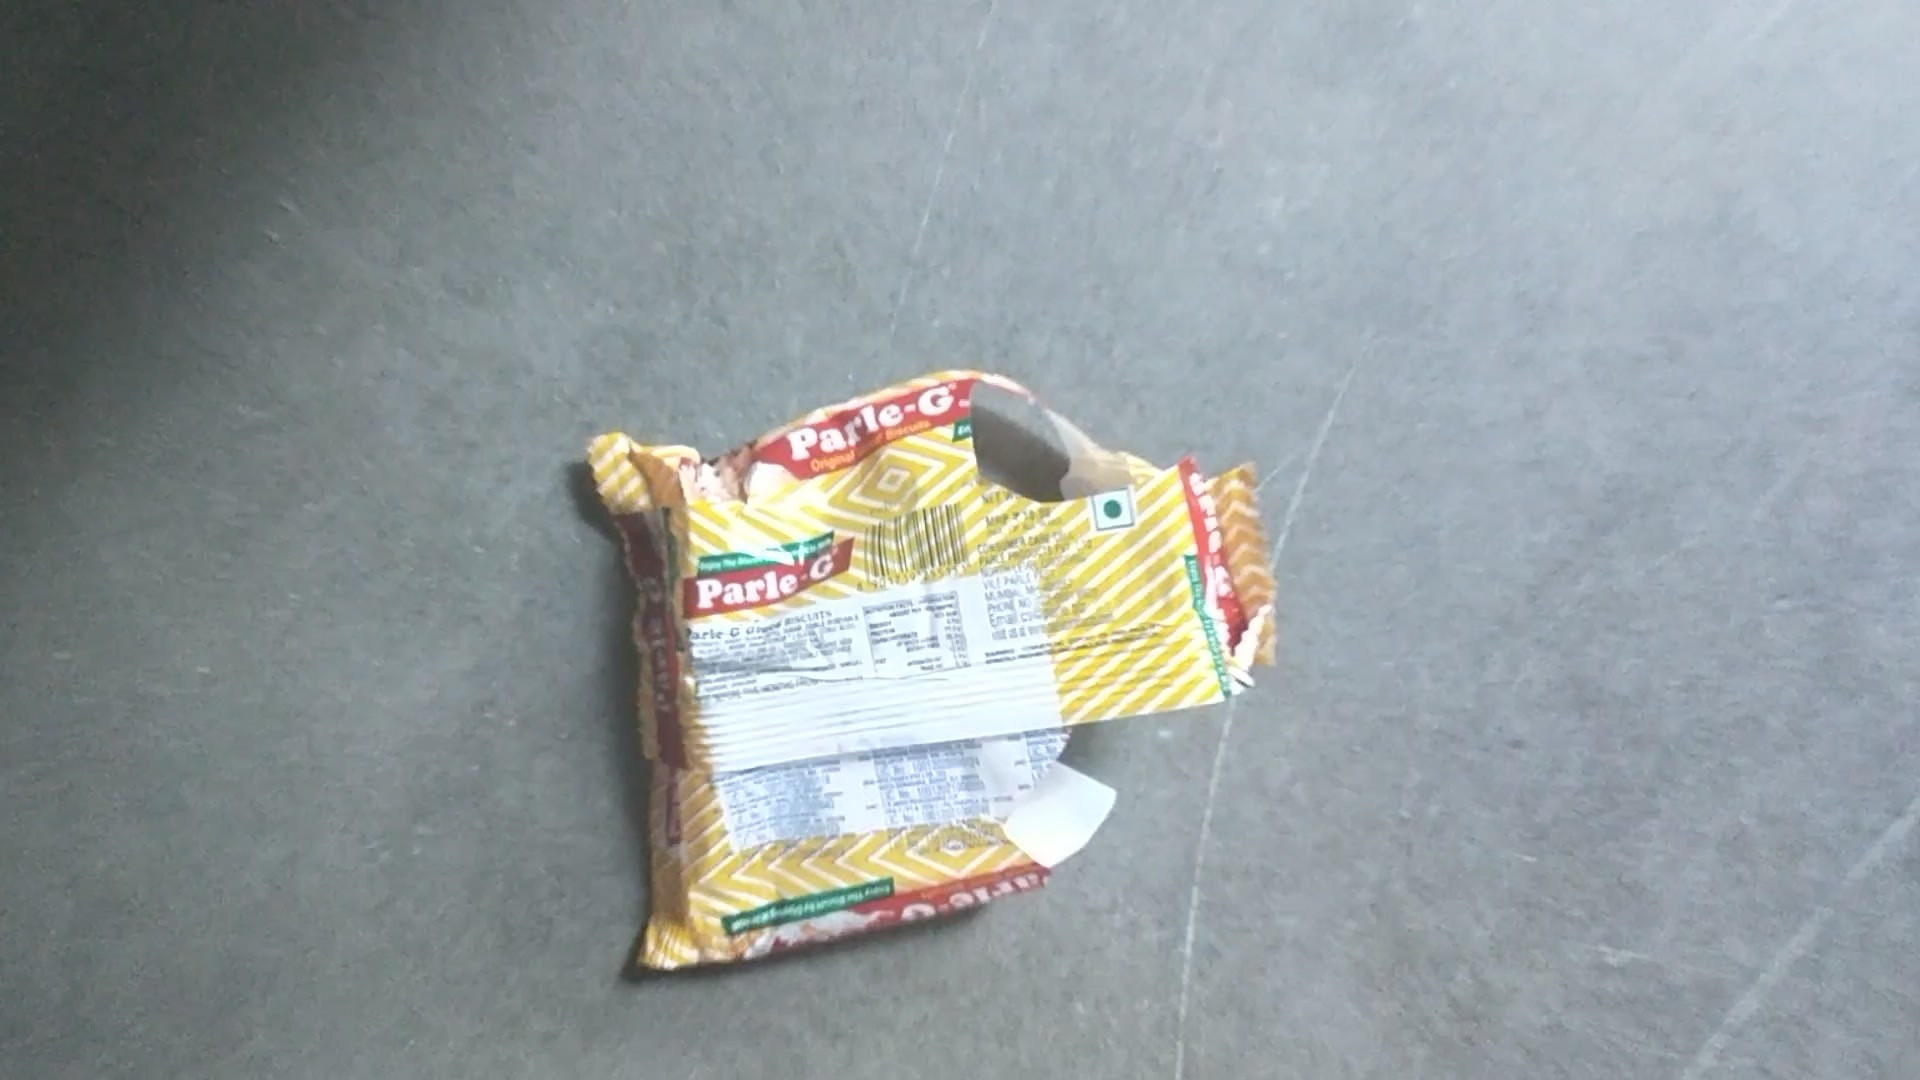parle-g-b: (634, 405, 1229, 938)
